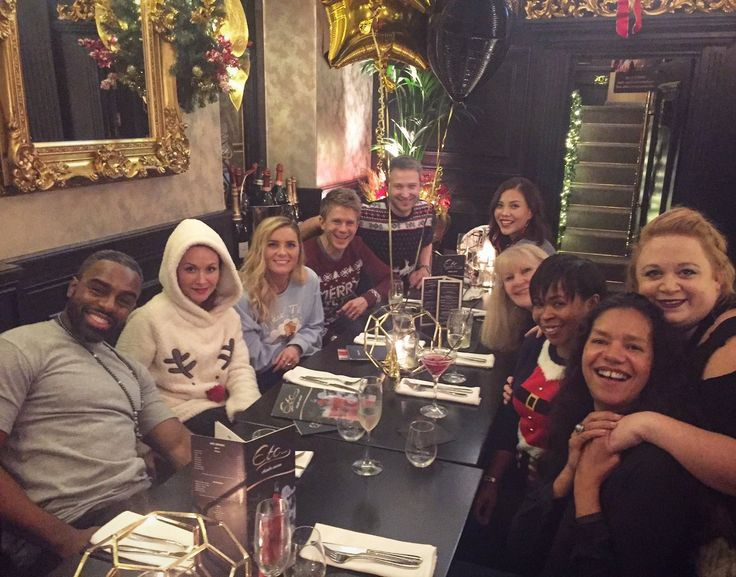bad: (623, 236, 713, 325), (577, 320, 652, 395), (73, 274, 135, 336), (261, 233, 304, 276), (180, 257, 223, 300), (489, 194, 525, 230), (325, 210, 361, 246)
